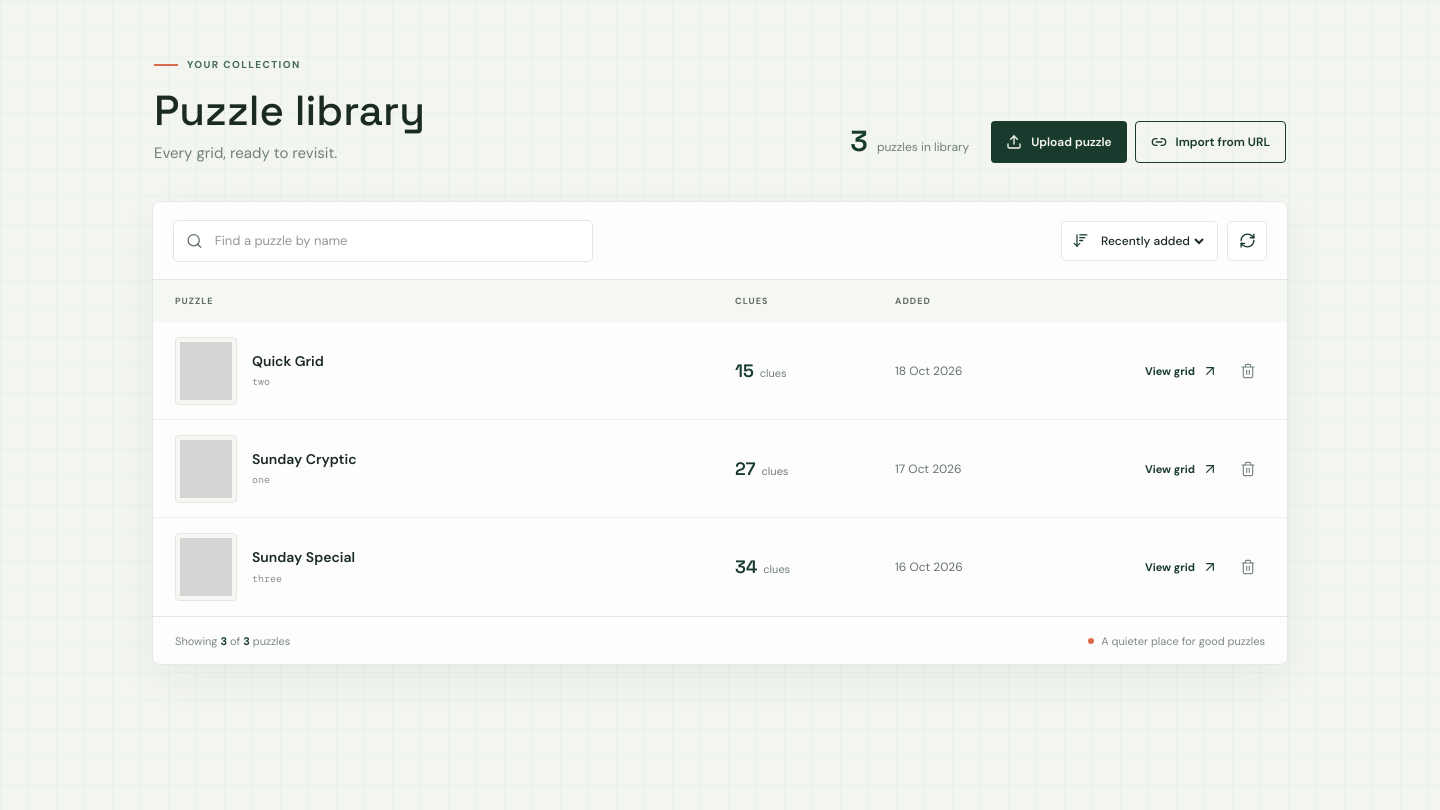
Test case: shows no-results copy and clears the search
Type "missing" into the search field named "Search puzzles" at (396, 240), box [213, 231, 580, 250]
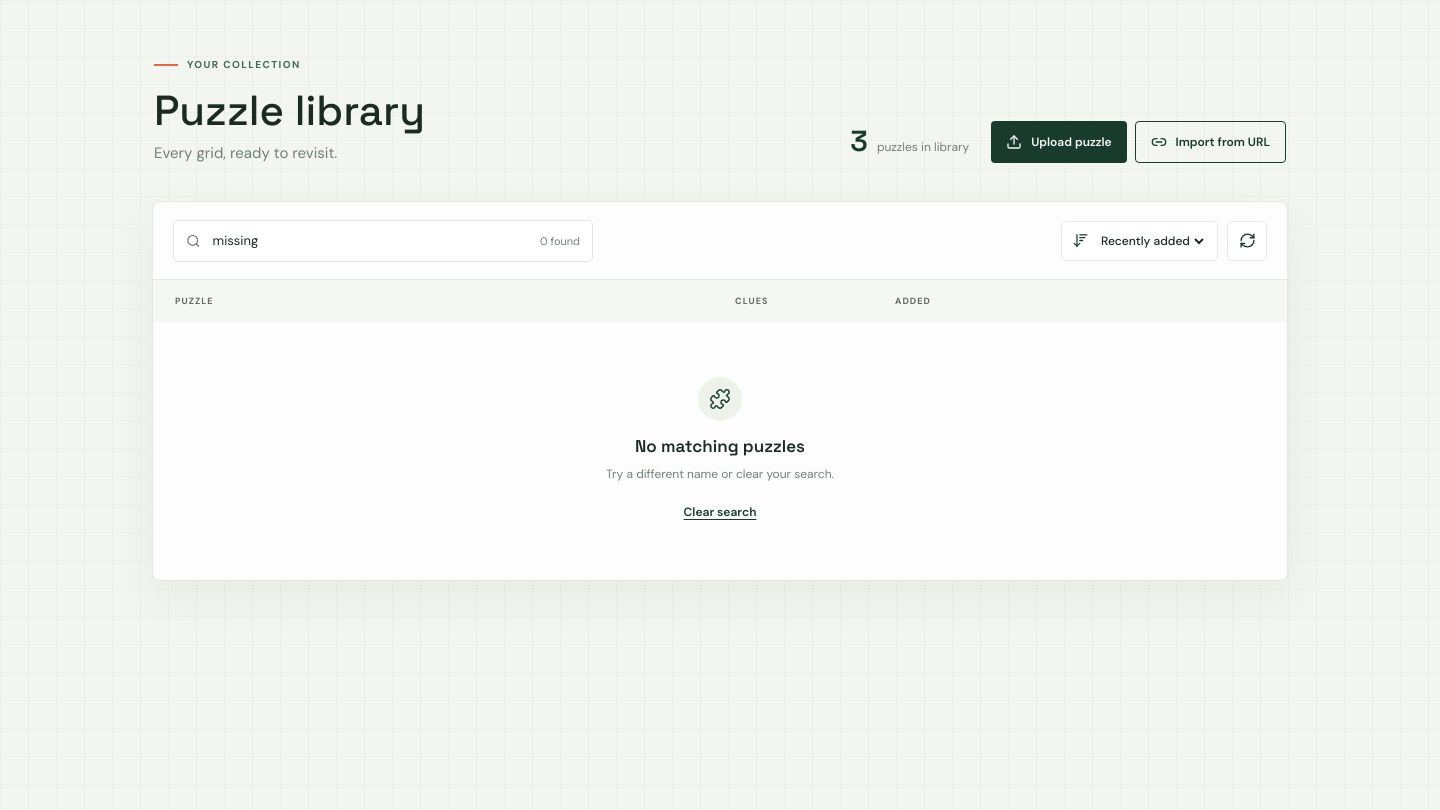
Expected: the heading "No matching puzzles" is shown, [635, 435, 805, 457]
Expected: the text "Try a different name or clear your search." is shown, [606, 465, 834, 484]
Click the button "Clear search" at (720, 512), box [676, 499, 764, 525]
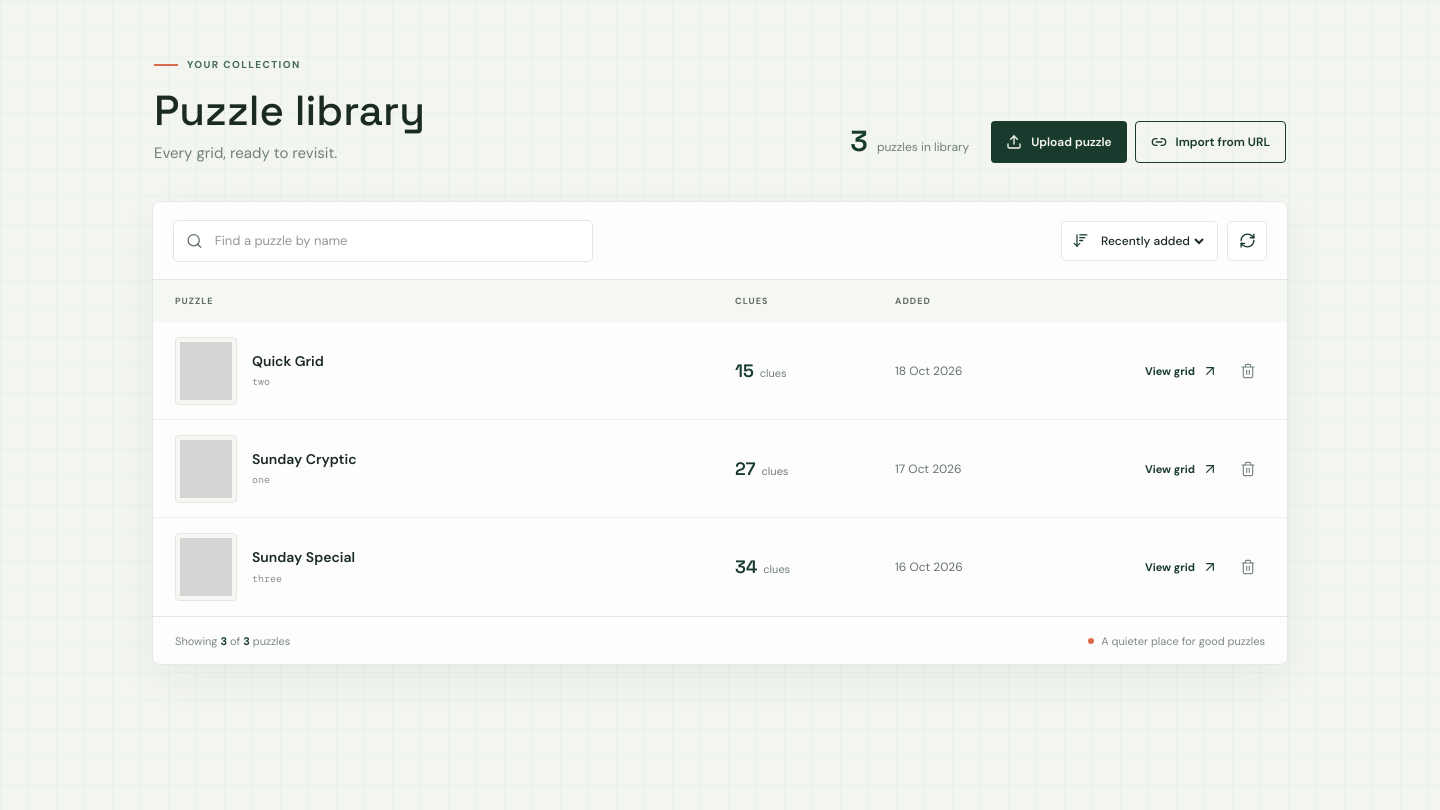
Expected: the heading "Sunday Cryptic" is shown, [252, 450, 357, 468]
